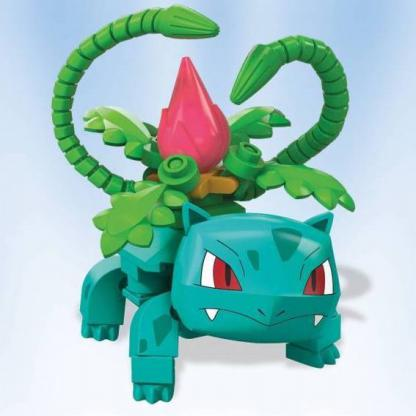Ivysaur: (13, 9, 397, 411)
